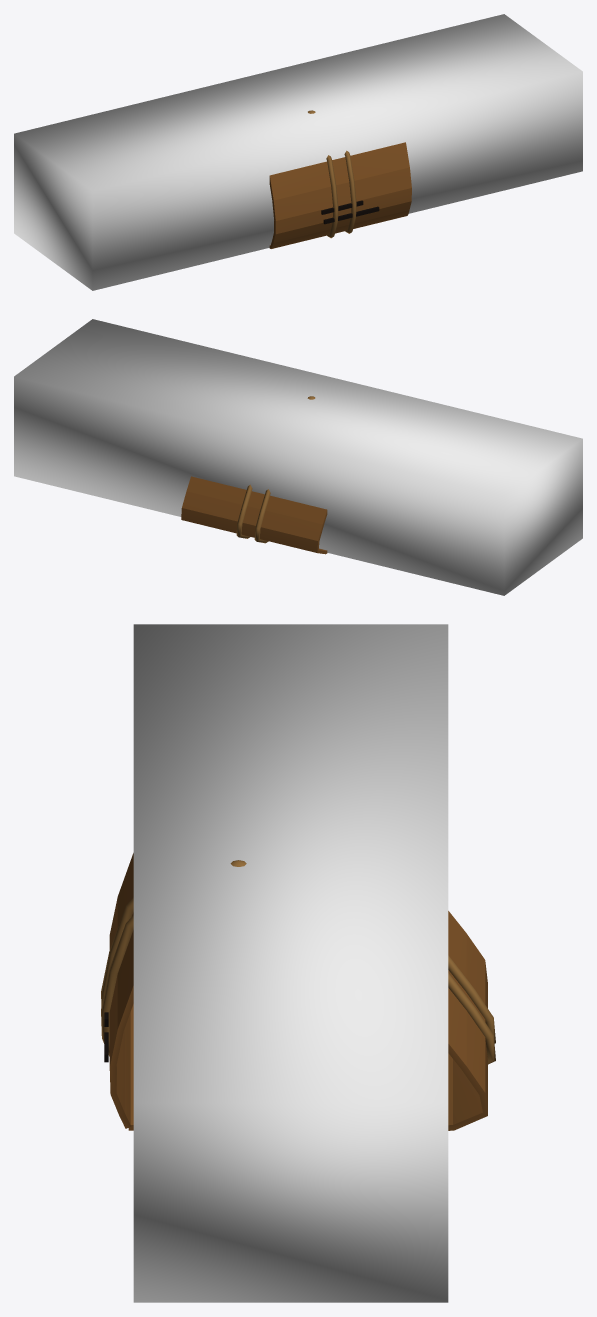
File: velas.glb
3 views of the same model, one above another, from view 1: azimuth 30°, elevation 25°; view 2: azimuth 150°, elevation 25°; view 3: azimuth 270°, elevation 25° (orthographic). The views are drawn at different scales.
Visible parts, largest first — view 1: velas-colcaja, faja; view 2: velas-colcaja, faja; view 3: velas-colcaja, faja.
Part boxes in pixels (<box>): velas-colcaja: <box>14,14,582,290</box>; faja: <box>269,110,411,248</box>; velas-colcaja: <box>14,319,582,595</box>; faja: <box>181,396,327,554</box>; velas-colcaja: <box>133,624,448,1302</box>; faja: <box>101,853,495,1130</box>.
Bounding box in the file's own units: 0.216 × 0.0449 × 0.0754.
